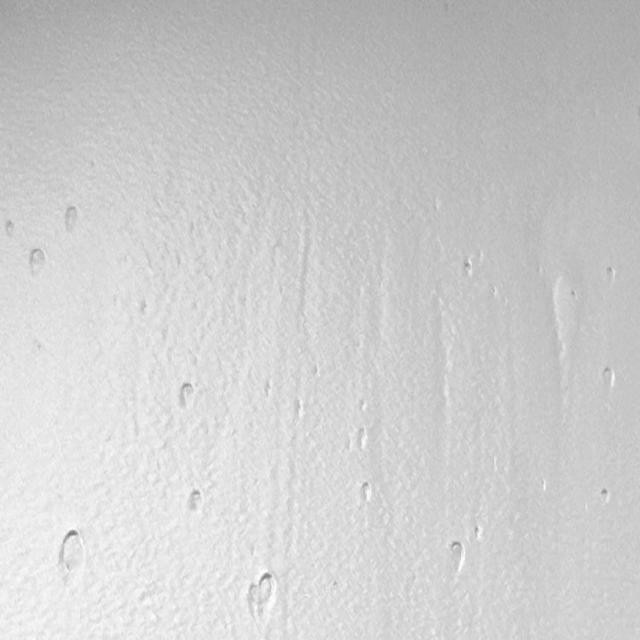pin holes: (242, 570, 281, 626), (55, 527, 91, 578), (25, 244, 49, 277), (445, 540, 467, 574), (60, 206, 84, 237), (175, 381, 198, 412), (184, 486, 205, 516), (597, 365, 616, 394), (358, 482, 377, 507), (354, 426, 371, 452), (290, 397, 306, 420), (4, 219, 20, 240), (462, 258, 478, 279), (597, 487, 613, 507), (137, 298, 153, 318), (604, 264, 618, 285), (473, 524, 485, 542), (263, 381, 275, 398), (570, 288, 582, 304), (358, 400, 370, 414)
